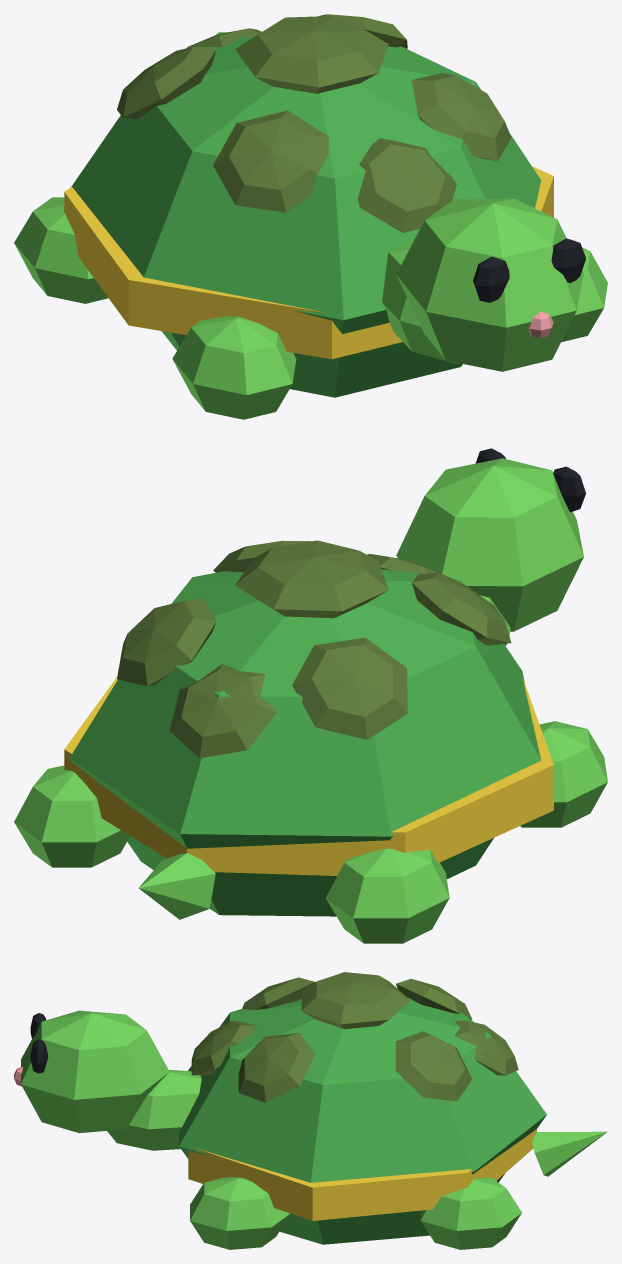
The model's file is turtle-lod1.glb.
3 views of the same model, one above another, from view 1: azimuth 30°, elevation 25°; view 2: azimuth 150°, elevation 25°; view 3: azimuth 270°, elevation 25° (orthographic). The views are drawn at different scales.
Parts seen in each view (by area): view 1: turtle; view 2: turtle; view 3: turtle.
Part boxes in pixels (x1,y1,x2,y2): turtle: (14, 14, 607, 419); turtle: (14, 448, 607, 943); turtle: (14, 972, 607, 1249).
Bounding box in the file's own units: 0.6824 × 0.5128 × 1.13.
